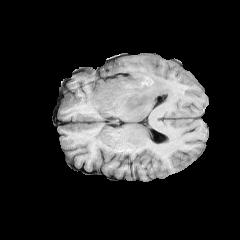glioma: (88, 75, 182, 123)
